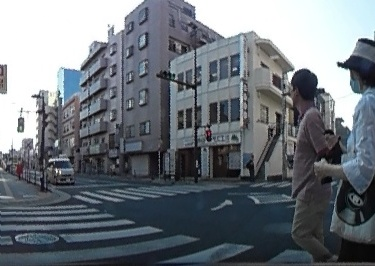person: (284, 64, 337, 256), (340, 39, 375, 266), (248, 153, 255, 178)
